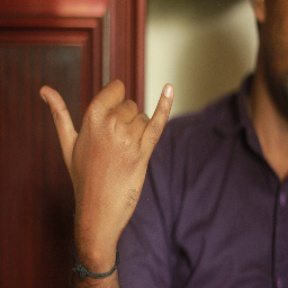J: (38, 48, 176, 215)
